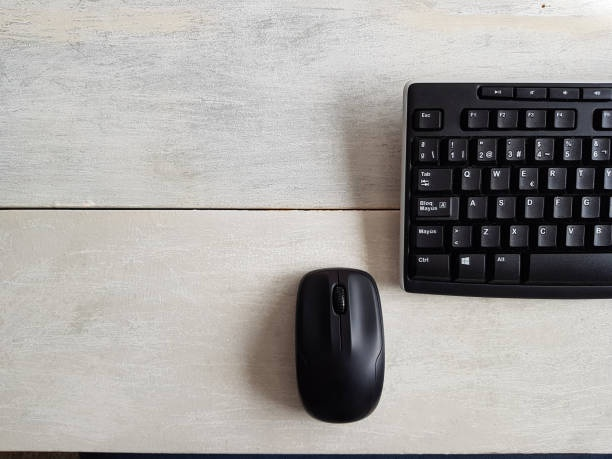keyboard: (403, 81, 612, 296)
mouse: (292, 267, 387, 426)
